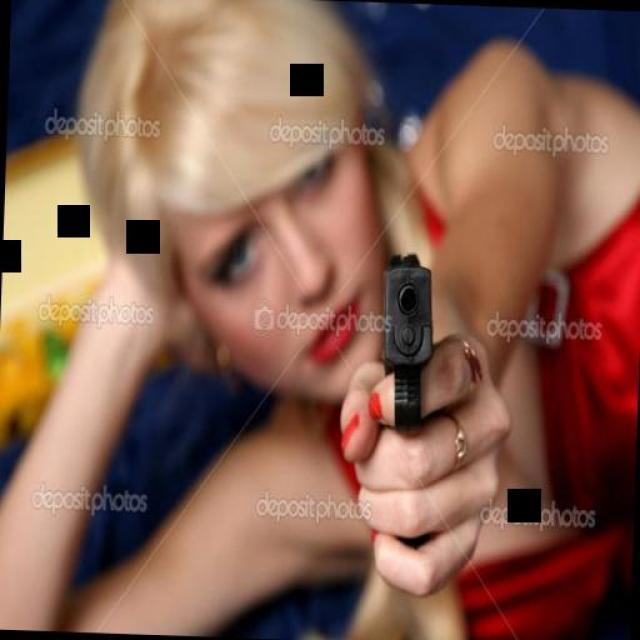gun: (368, 242, 443, 570)
